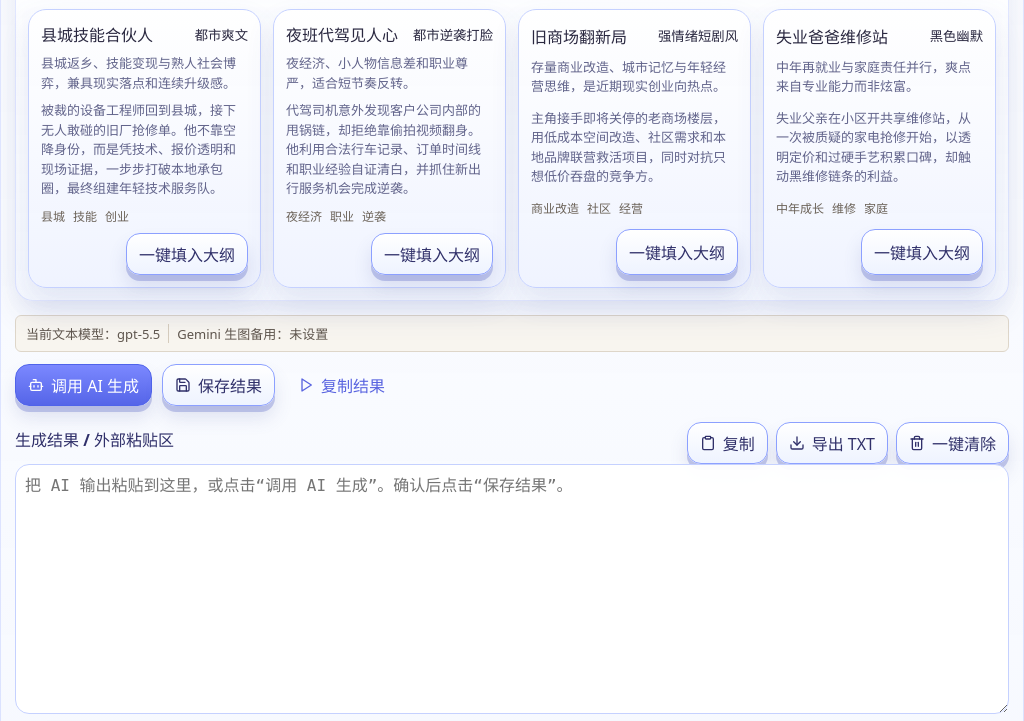
Test: Workspace progress › shows a clear failure when AI output is empty after cleanup
(page scrolled)
Step 1. Click the button "调用 AI 生成" → point(84, 384), box [15,364,152,406]
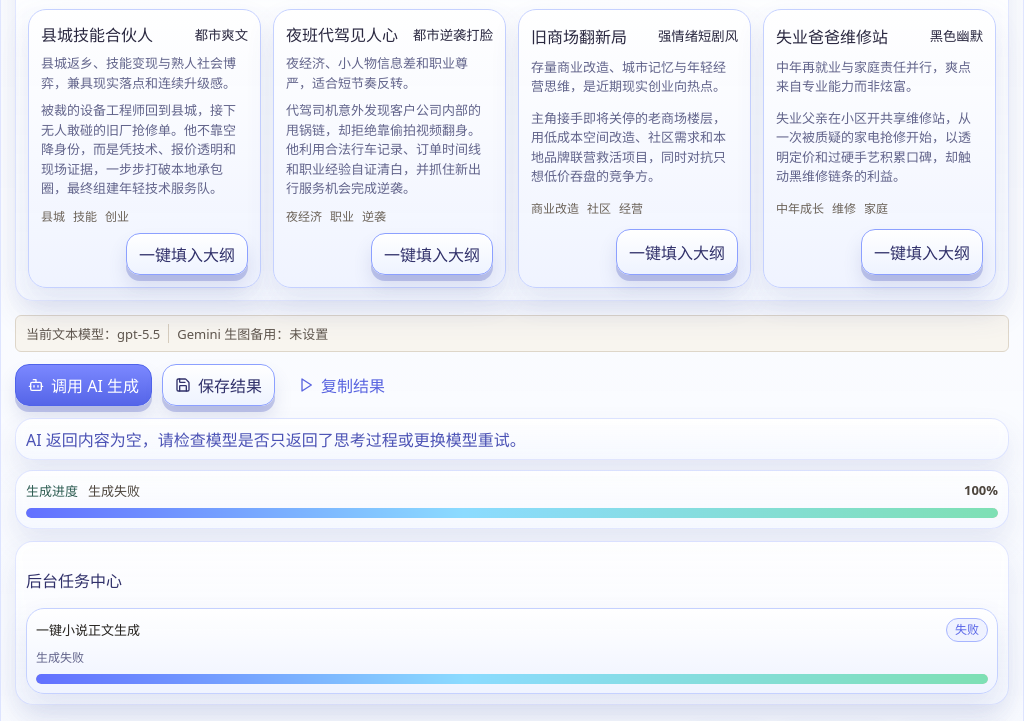
Result: the text "AI 返回内容为空，请检查模型是否只返回了思考过程或更换模型重试。" is shown at [15,418,1009,460]
